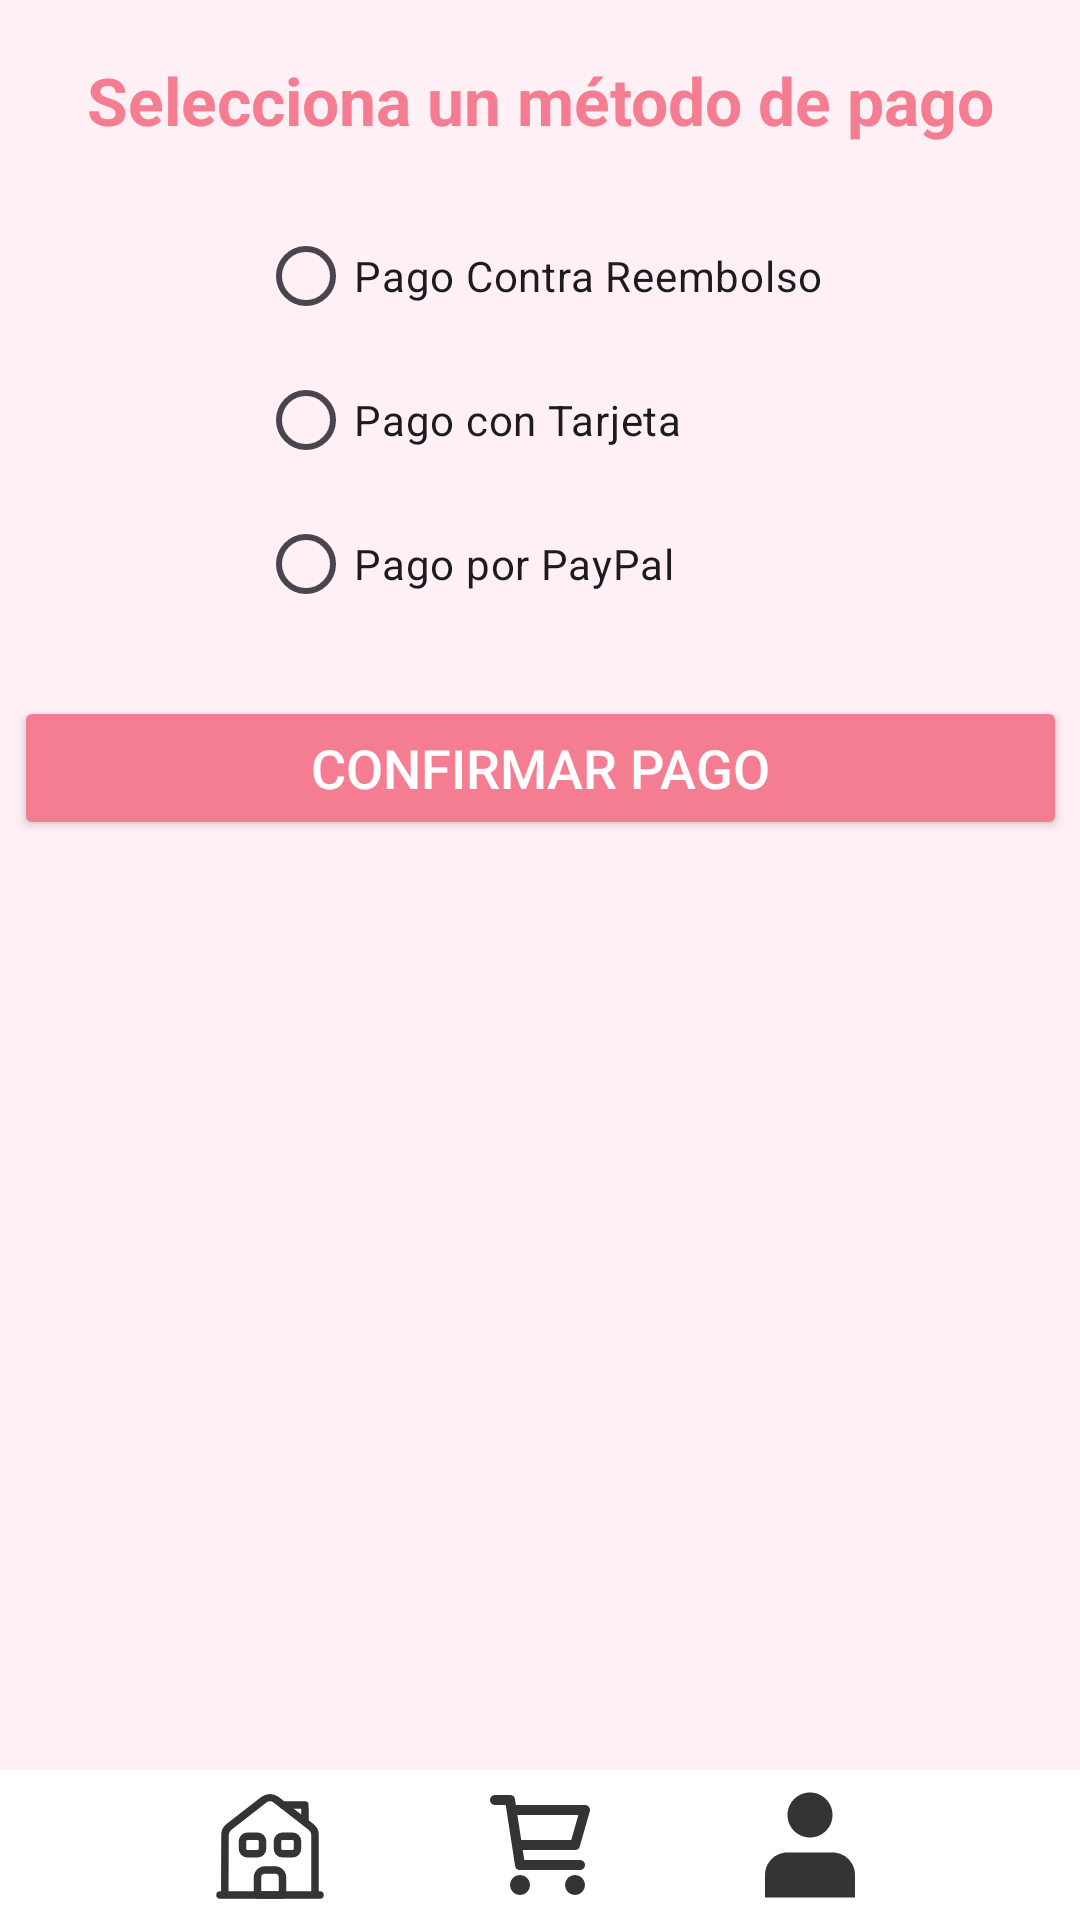

Icons on this 1080w x 1920h Android screen, each with its box as (x1, y1, x2, y2):
Cart: (490, 1795, 590, 1895)
Home: (216, 1794, 324, 1899)
Profile: (765, 1792, 855, 1898)
